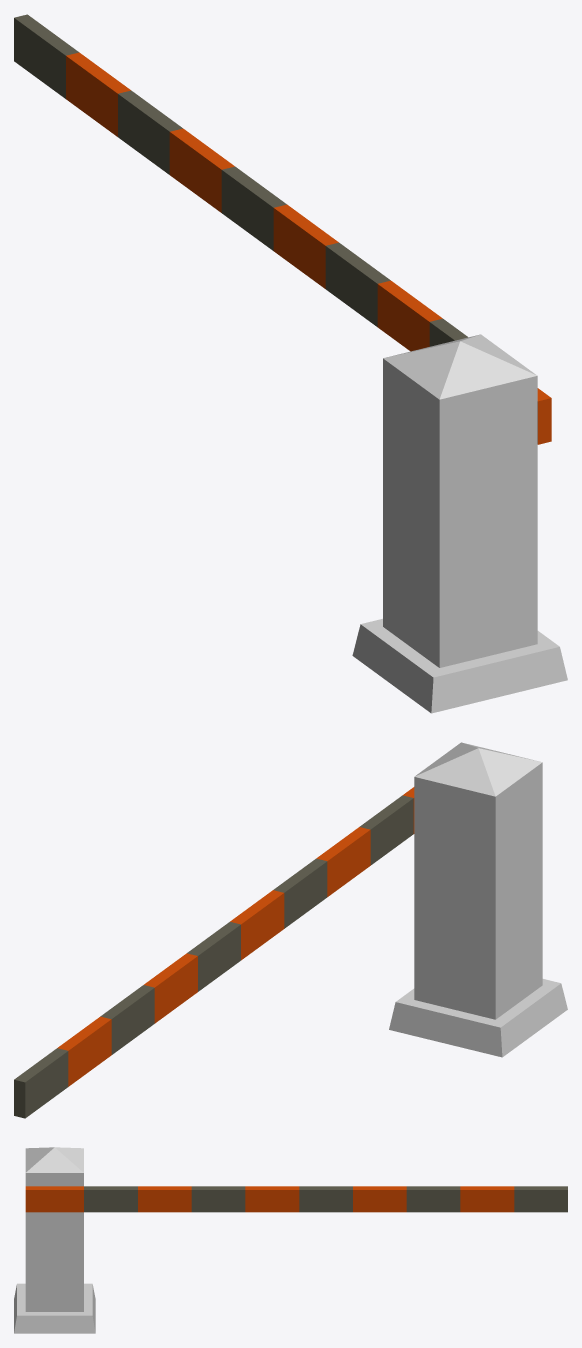
The model's file is Barrier-Harbour-v002_HC.fbx.
3 renders of one model, top to bottom at view 1: azimuth 30°, elevation 25°; view 2: azimuth 150°, elevation 25°; view 3: azimuth 270°, elevation 25°, orthographic. The views are drawn at different scales.
Parts seen in each view (by area): view 1: Security_Gate_Pillar_01, Security_Gate_Arm_01, Security_Gate_Base_01; view 2: Security_Gate_Pillar_01, Security_Gate_Arm_01, Security_Gate_Base_01; view 3: Security_Gate_Arm_01, Security_Gate_Pillar_01, Security_Gate_Base_01.
Part boxes in pixels (x1,y1,x2,y2): Security_Gate_Pillar_01: (383,334,537,667); Security_Gate_Arm_01: (14,14,551,444); Security_Gate_Base_01: (352,618,567,713); Security_Gate_Pillar_01: (414,742,542,1019); Security_Gate_Arm_01: (14,787,414,1118); Security_Gate_Base_01: (389,979,567,1057); Security_Gate_Arm_01: (25,1186,567,1212); Security_Gate_Pillar_01: (25,1147,83,1311); Security_Gate_Base_01: (14,1283,95,1333).
Size of the model in its own units: 0.4503 by 1.03 by 3.06.
